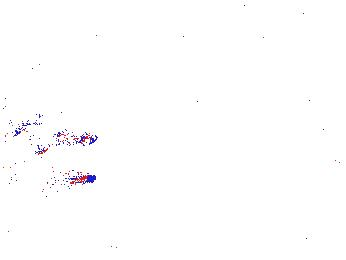red belly glassfish: (68, 170, 98, 187)
redtail glassfish: (10, 114, 100, 152)
